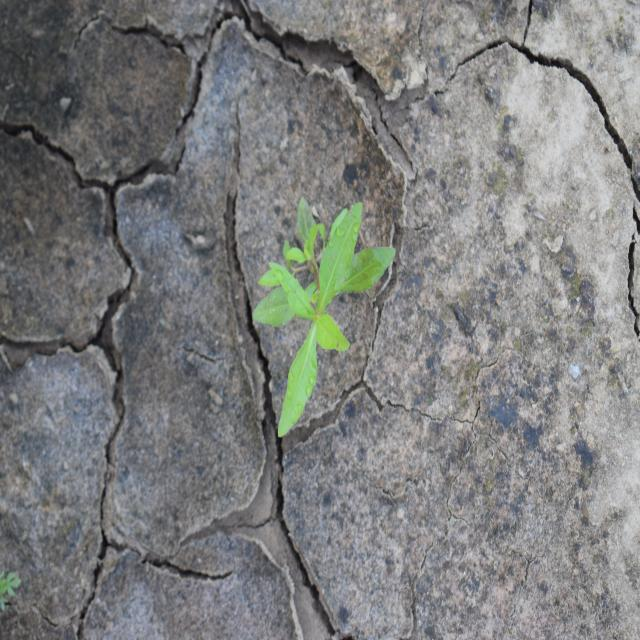Eclipta: (250, 195, 398, 440)
